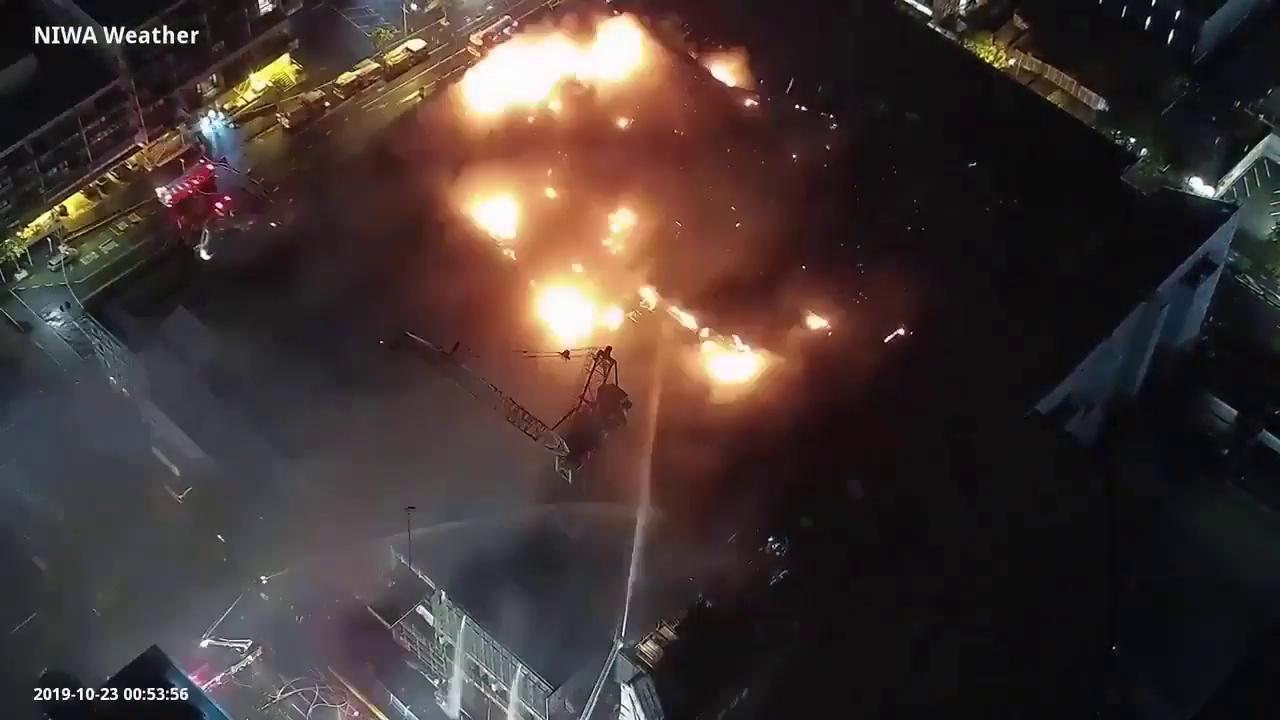Fire: (435, 13, 650, 125), (532, 262, 657, 348), (664, 308, 774, 390), (456, 178, 530, 260), (596, 209, 641, 254), (703, 54, 755, 87), (805, 307, 833, 334), (545, 183, 559, 199)
